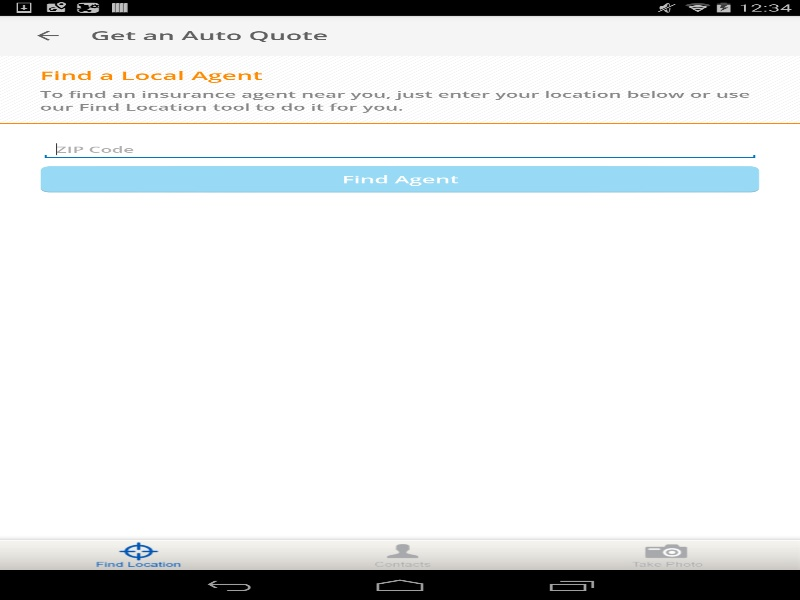Button: (40, 165, 760, 192), (10, 15, 85, 55), (95, 542, 182, 567), (359, 542, 446, 567), (624, 542, 710, 567)
Input: (40, 139, 760, 160)
